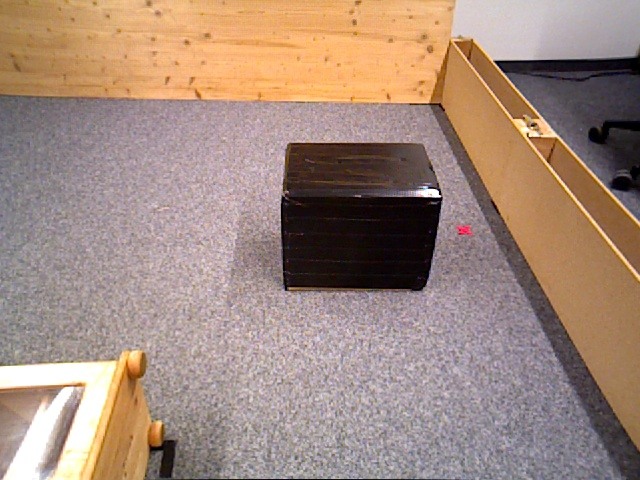push: (283, 141, 443, 295)
